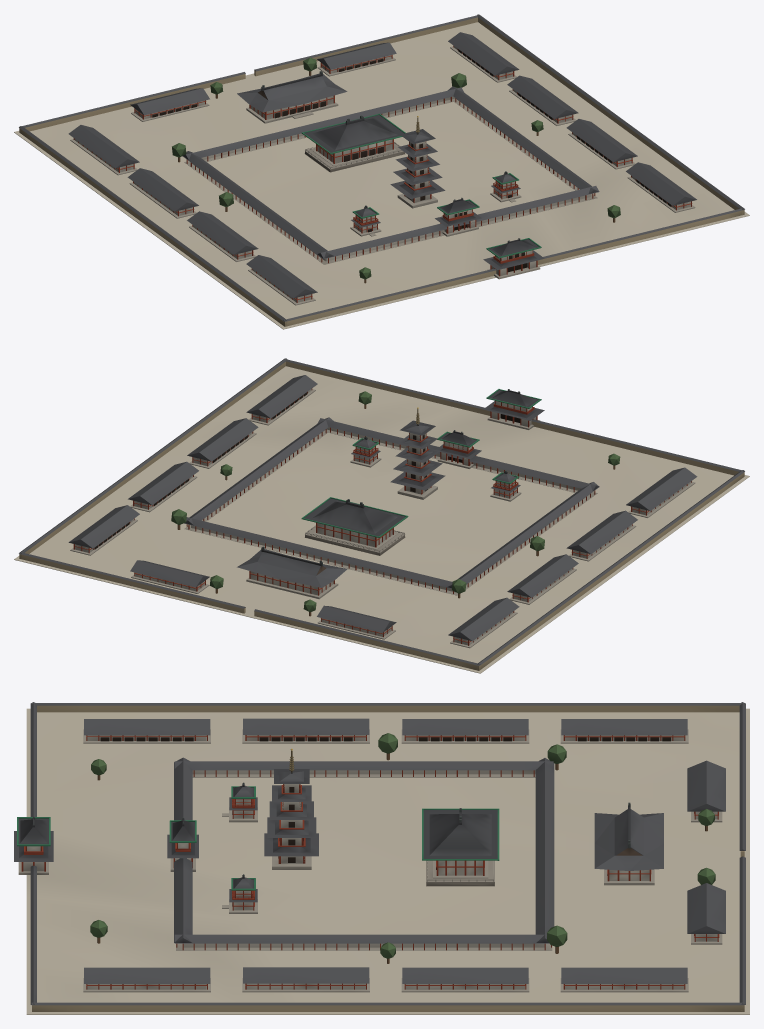
The model's file is daxingshan-si.glb.
3 views of the same model, one above another, from view 1: azimuth 30°, elevation 25°; view 2: azimuth 150°, elevation 25°; view 3: azimuth 270°, elevation 25° (orthographic). The views are drawn at different scales.
Parts seen in each view (by area): view 1: p0_walls, p2_trees, p1_halls; view 2: p0_walls, p2_trees, p1_halls; view 3: p0_walls, p2_trees, p1_halls.
Boxes of the visible parts, x1,y1,x2,y2 form: p0_walls: [14, 14, 749, 329]; p2_trees: [68, 32, 696, 298]; p1_halls: [70, 45, 695, 305]; p0_walls: [14, 358, 749, 673]; p2_trees: [68, 375, 697, 641]; p1_halls: [70, 388, 695, 648]; p0_walls: [26, 702, 749, 1014]; p2_trees: [14, 718, 725, 983]; p1_halls: [18, 729, 722, 992].
Bounding box in the file's own units: 300 × 52 × 305.
